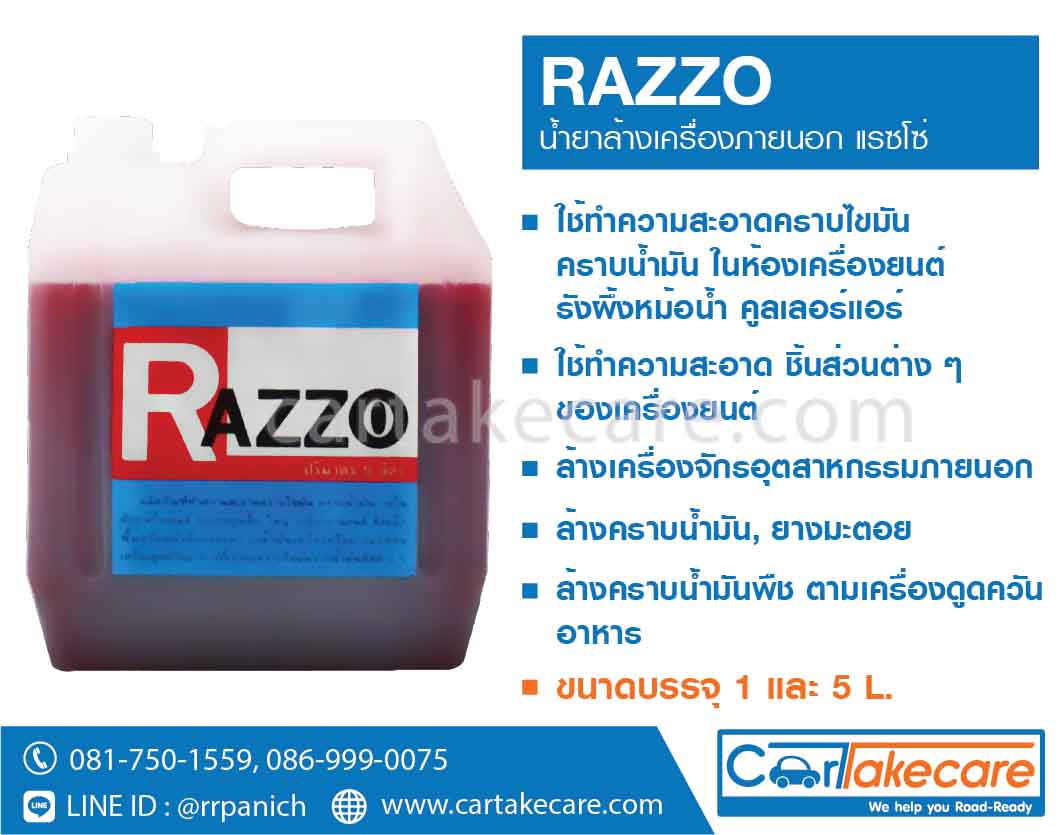Cleaning_solution: (17, 108, 503, 680)
